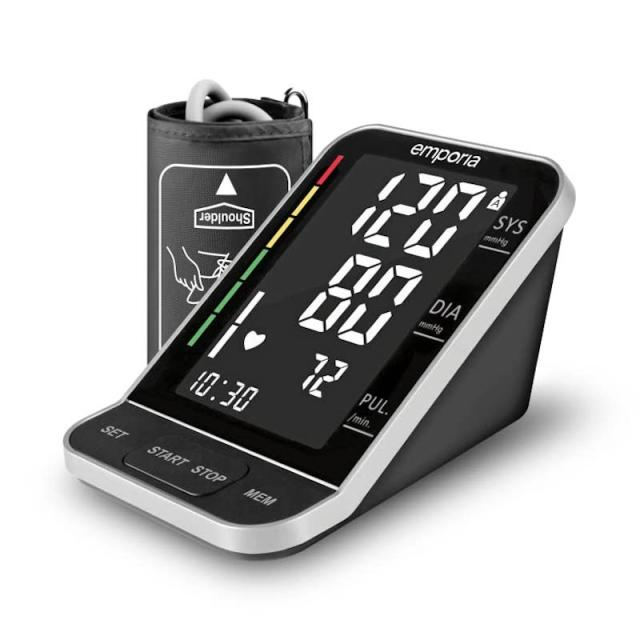dia: (278, 214, 432, 377)
pul: (269, 324, 358, 415)
ssd: (174, 95, 523, 483)
sys: (335, 152, 496, 275)
